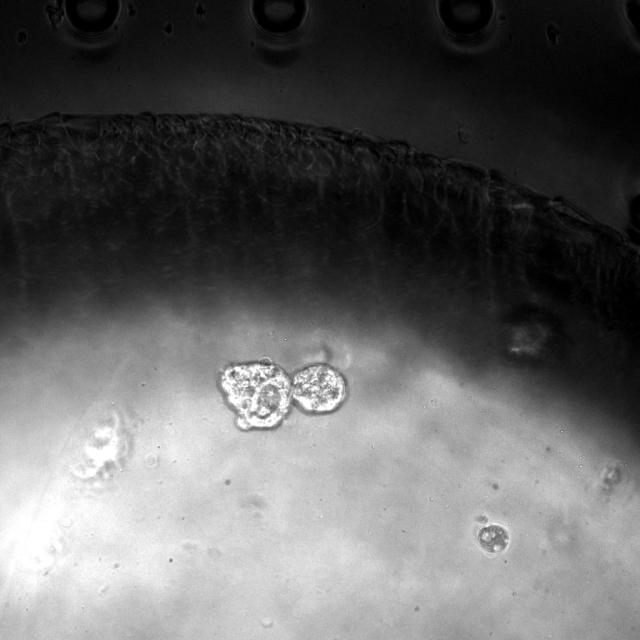organoid: (220, 358, 347, 430), (509, 322, 548, 357), (478, 525, 508, 552)
